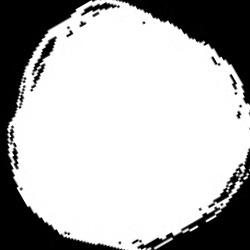spot: (7, 1, 248, 247)
